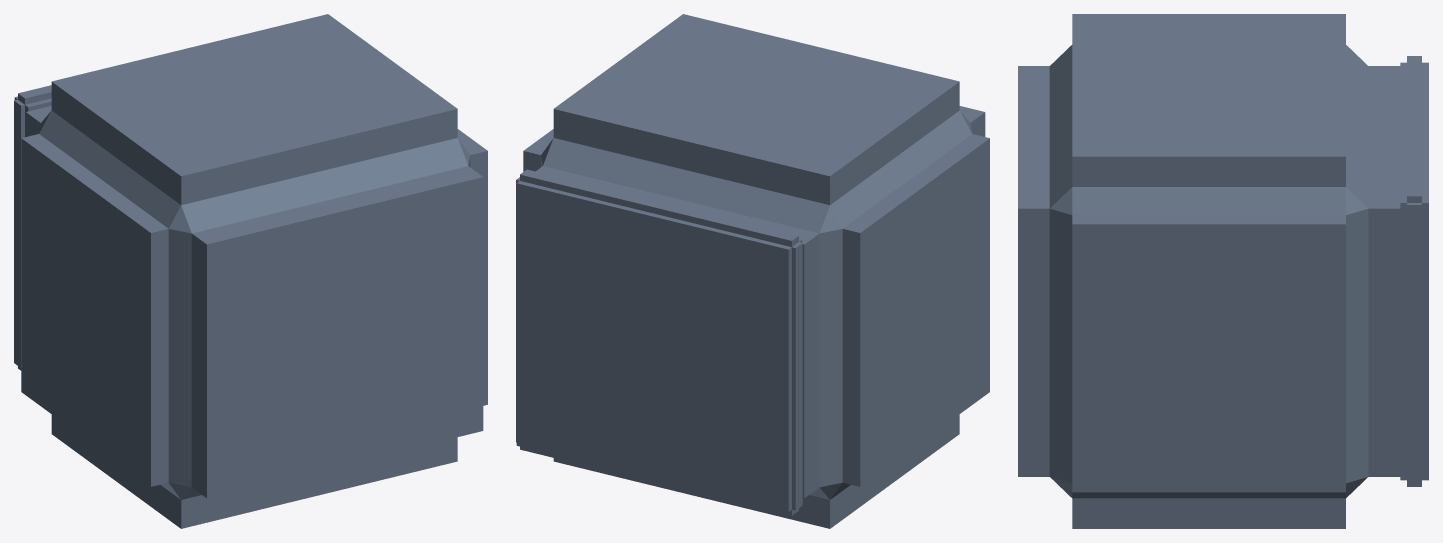
File: bb_comp_GripRig_Counterweight.fbx
3 views of the same model, side by side, from view 1: azimuth 30°, elevation 25°; view 2: azimuth 150°, elevation 25°; view 3: azimuth 270°, elevation 25° (orthographic). The views are drawn at different scales.
Parts seen in each view (by area): view 1: bb_comp_GripRig_Counterweight; view 2: bb_comp_GripRig_Counterweight; view 3: bb_comp_GripRig_Counterweight.
Part boxes in pixels (left/top/right/bottom): bb_comp_GripRig_Counterweight: left=14, top=14, right=487, bottom=528; bb_comp_GripRig_Counterweight: left=516, top=14, right=989, bottom=528; bb_comp_GripRig_Counterweight: left=1018, top=14, right=1428, bottom=528.
Bounding box in the file's own units: 1 × 1 × 1.
